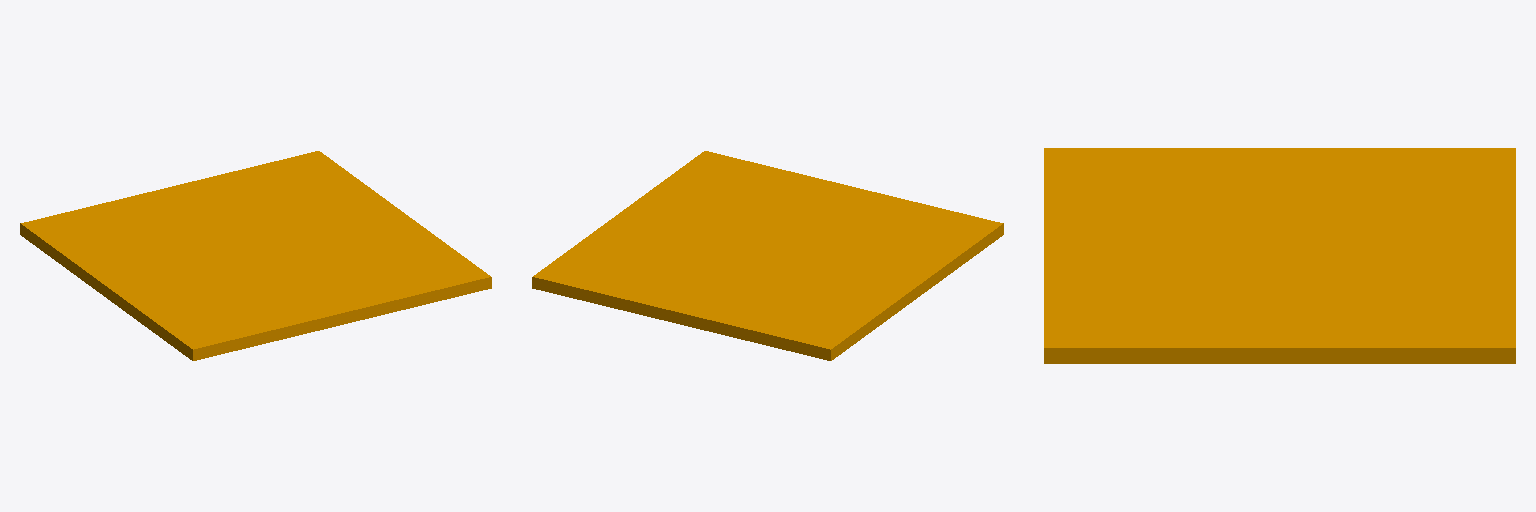
The robot description file, URDF, robot "Board":
<?xml version="1.0" encoding="utf-8"?>
<robot name="Board">
  <link name="board_body">
    <contact>
      <lateral_friction value="1.0"/>
    </contact>
    <inertial>
      <mass value="2.674"/>
      <origin xyz="0.00 0.00 -0.01" rpy="0 0 0"/>
      <inertia ixx="0.058" ixy="0.00" ixz="0.00" iyy="0.058" iyz="0.00" izz="0.115"/>
    </inertial>
    <collision>
      <origin rpy="0 0 0" xyz="0 0 -0.0095"/>
      <geometry>
        <box size="0.508 0.508 0.019"/>
      </geometry>
    </collision>
    <visual>
      <origin rpy="0 0 0"/>
      <geometry>
        <mesh filename="simpleBoard.obj"/>
      </geometry>
    </visual>
  </link>
</robot>

--- Facts derived from the render (not from the file) ---
The picture shows the robot from 3 angles, left to right: view 1: azimuth 30°, elevation 25°; view 2: azimuth 150°, elevation 25°; view 3: azimuth 270°, elevation 25°; orthographic projection.
Model Board with 1 links and 0 joints (none), rooted at board_body, posed all joints at 0.
Visible links, largest first — view 1: board_body; view 2: board_body; view 3: board_body.
Boxes of the visible links, box(x1,y1,x2,y2) form: board_body: box(20, 151, 491, 360); board_body: box(532, 151, 1003, 360); board_body: box(1044, 148, 1515, 363).
Bounding box of the posed robot: 0.508 × 0.508 × 0.0191 m (x, y, z).
Meshes: 1 distinct files referenced, 1 mesh visuals loaded (1 OBJ).